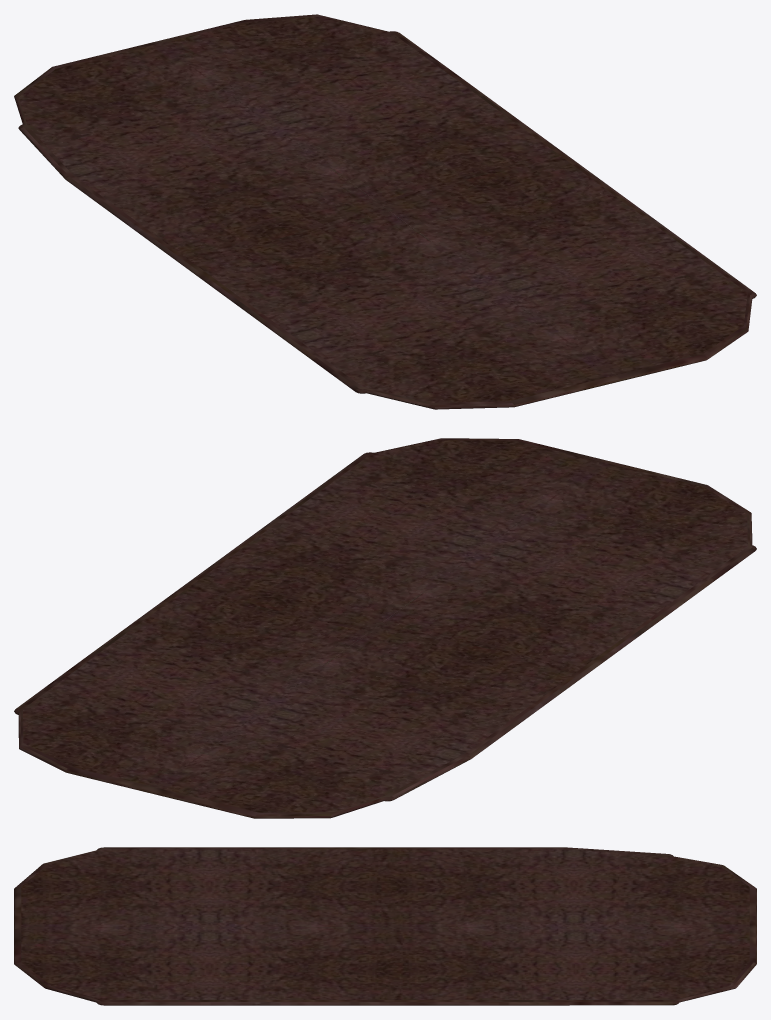
The model's file is Rug.glb.
The picture shows the model from 3 angles, top to bottom: view 1: azimuth 30°, elevation 25°; view 2: azimuth 150°, elevation 25°; view 3: azimuth 270°, elevation 25°; orthographic projection. The views are drawn at different scales.
Visible parts, largest first — view 1: ChamferBox001__0; view 2: ChamferBox001__0; view 3: ChamferBox001__0.
Part boxes in pixels (box(x1,y1,x2,y2)): ChamferBox001__0: box(14, 14, 756, 409); ChamferBox001__0: box(14, 438, 756, 818); ChamferBox001__0: box(14, 847, 756, 1005).
Bounding box in the file's own units: 0.635 × 0.00685 × 1.27.
1 material, 1 textured.
